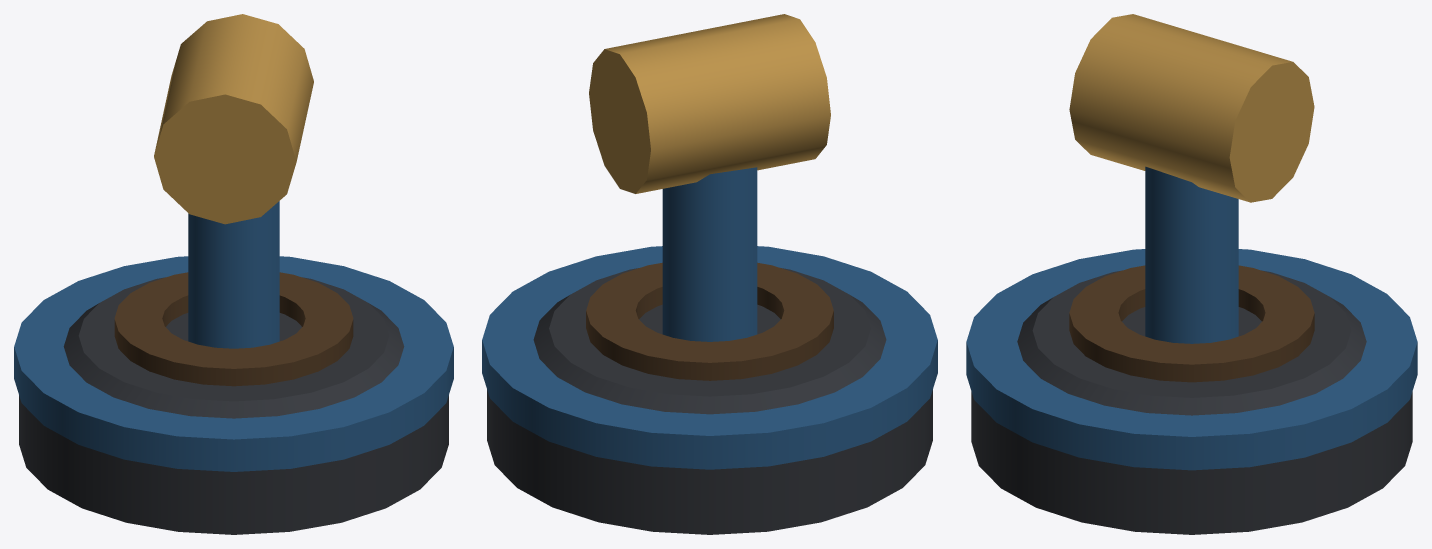
Rendered from rm2_leg_rr_foot.obj.
The picture shows the model from 3 angles, left to right: view 1: azimuth 30°, elevation 25°; view 2: azimuth 150°, elevation 25°; view 3: azimuth 270°, elevation 25°; orthographic projection. The views are drawn at different scales.
Visible parts, largest first — view 1: rm2_leg_rr_foot; view 2: rm2_leg_rr_foot; view 3: rm2_leg_rr_foot.
Part boxes in pixels (<box>): rm2_leg_rr_foot: <box>14,14,453,534</box>; rm2_leg_rr_foot: <box>482,14,937,534</box>; rm2_leg_rr_foot: <box>966,14,1417,534</box>.
Bounding box in the file's own units: 0.184 × 0.18 × 0.184.
